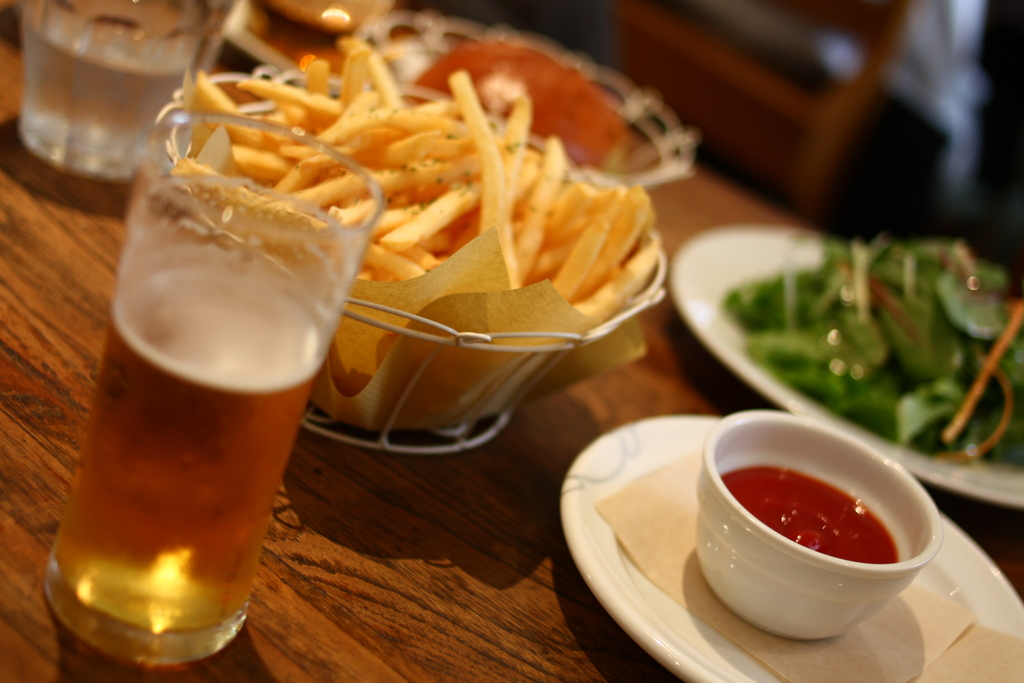French fries: (163, 27, 676, 322)
